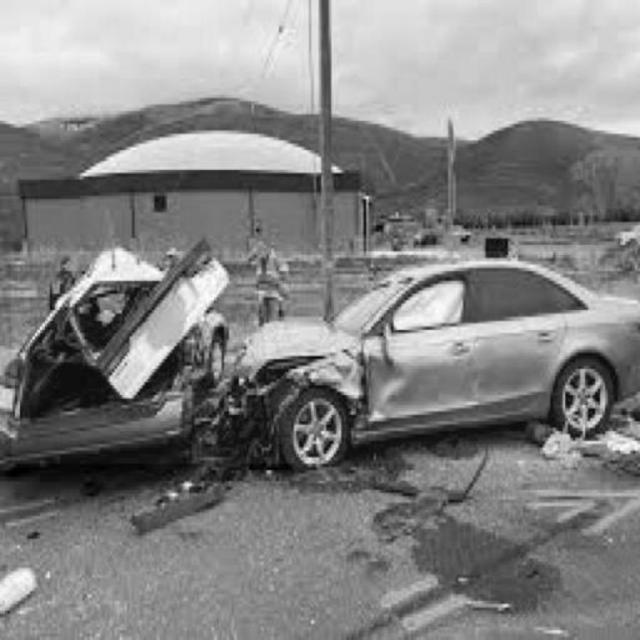accident: (11, 252, 639, 464)
